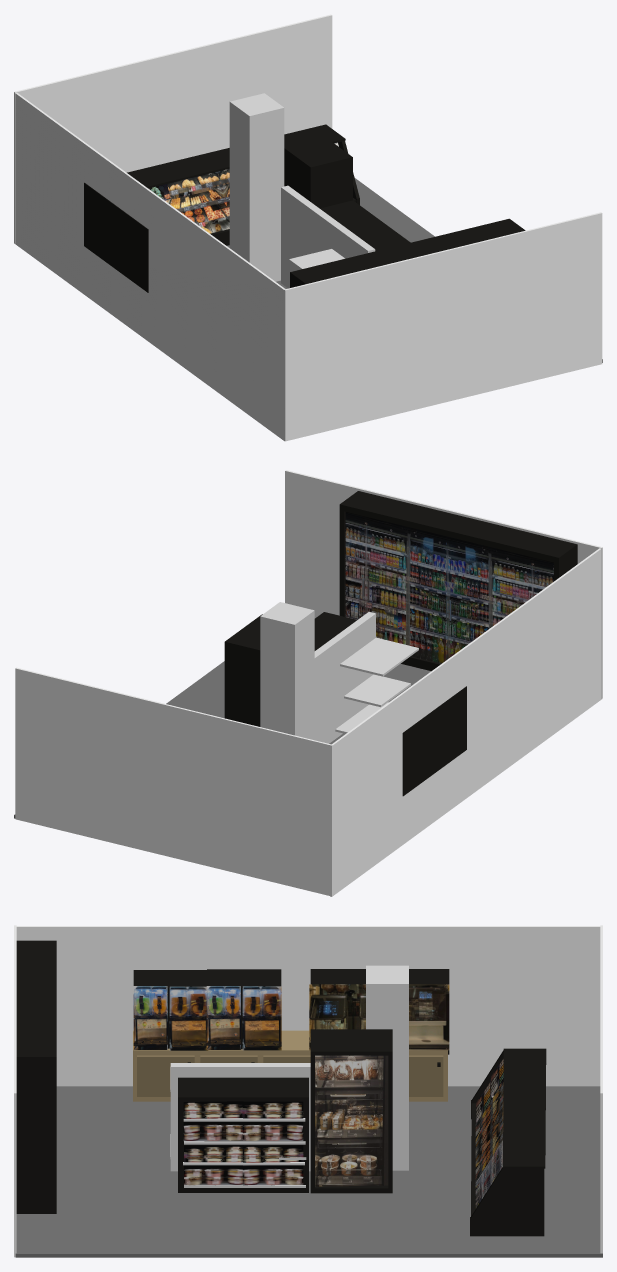
The picture shows the model from 3 angles, top to bottom: view 1: azimuth 30°, elevation 25°; view 2: azimuth 150°, elevation 25°; view 3: azimuth 270°, elevation 25°; orthographic projection. The views are drawn at different scales.
Parts seen in each view (by area): view 1: Cube.002, Cube.001, Cube.003, Cube.026, Cube.021, Cube.027, Cube.012, Soda2, Pælsehorn2, Cube.024, Cube.016, Cube (+1 smaller); view 2: Cube.003, Cube.001, Soda2, Cube.002, Cube.026, Cube.012, Cube.027, Cube.021, Cube, Cube.023, Cube.011, Cube.016; view 3: Cube, Cube.001, Cube.022, Soda2, bowlsKøleskab, Cube.027, Cube.029, Cube.016, Cube.024, Cube.026, Cube.015, Cube.021 (+14 smaller).
Part boxes in pixels (box(x1,y1,x2,y2)): Cube.002: box(284, 212, 602, 441); Cube.001: box(14, 92, 285, 440); Cube.003: box(14, 14, 332, 243); Cube.026: box(229, 93, 284, 281); Cube.021: box(284, 129, 352, 208); Cube.027: box(84, 182, 148, 292); Cube.012: box(281, 185, 375, 288); Soda2: box(290, 218, 525, 287); Pælsehorn2: box(167, 172, 229, 233); Cube.024: box(127, 124, 345, 188); Cube.016: box(320, 200, 410, 251); Cube: box(227, 178, 602, 362); Cube.003: box(15, 667, 332, 896); Cube.001: box(330, 548, 601, 896); Soda2: box(339, 491, 577, 671); Cube.002: box(285, 470, 602, 698); Cube.026: box(260, 602, 314, 740); Cube.012: box(314, 612, 375, 743); Cube.027: box(402, 686, 466, 796); Cube.021: box(224, 614, 262, 726); Cube: box(14, 661, 430, 818); Cube.023: box(340, 637, 418, 676); Cube.011: box(344, 674, 410, 707); Cube.016: box(314, 612, 356, 650); Cube: box(15, 1086, 602, 1257); Cube.001: box(16, 926, 600, 1086); Cube.022: box(133, 969, 281, 1050); Soda2: box(16, 940, 56, 1213); bowlsKøleskab: box(315, 1055, 388, 1186); Cube.027: box(309, 969, 449, 1054); Cube.029: box(133, 1030, 447, 1101); Cube.016: box(178, 1077, 308, 1192); Cube.024: box(503, 1048, 546, 1168); Cube.026: box(366, 965, 408, 1170); Cube.015: box(470, 1167, 544, 1236); Cube.021: box(310, 1029, 392, 1193).
Bounding box in the file's own units: 2185 × 1153 × 3219.
Materials: 15 (10 with a texture image).
